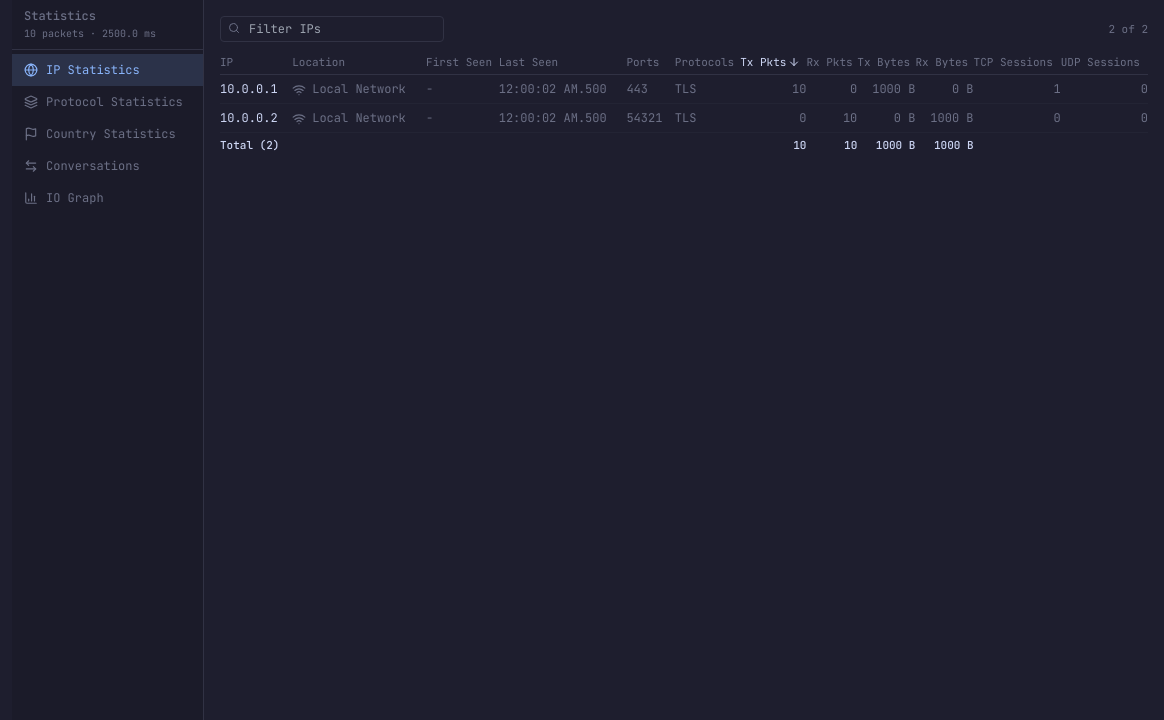
Test case: StatsTabs › renders IO graph as SVG with peak/avg annotations
Step 1. Click the button "IO Graph" → (108, 198), box [12,182,203,214]
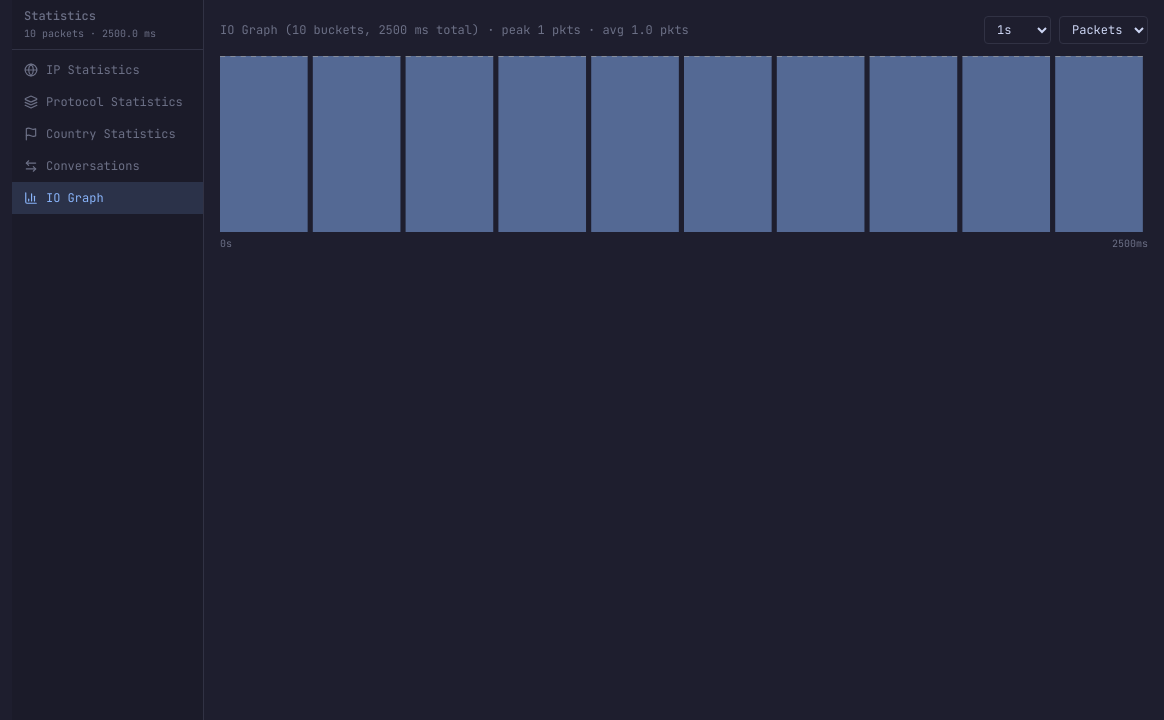
expect the picture named "IO graph" is shown: met, box [220,56,1148,232]
expect the text "· peak 1 pkts · avg 1.0 pkts" is shown: met, box [487,22,689,38]
